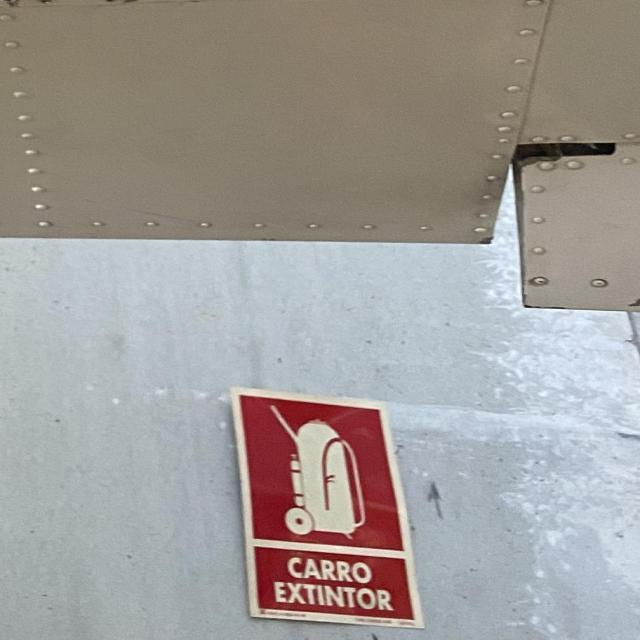Paint-off: (517, 153, 567, 169), (477, 233, 494, 246), (622, 297, 640, 309)
